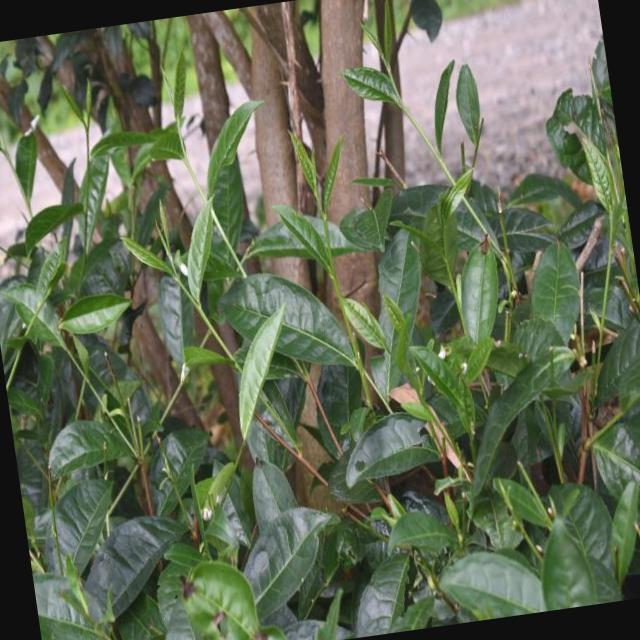Stem: (402, 106, 407, 112), (183, 157, 187, 163), (86, 127, 89, 134), (323, 214, 326, 220)
